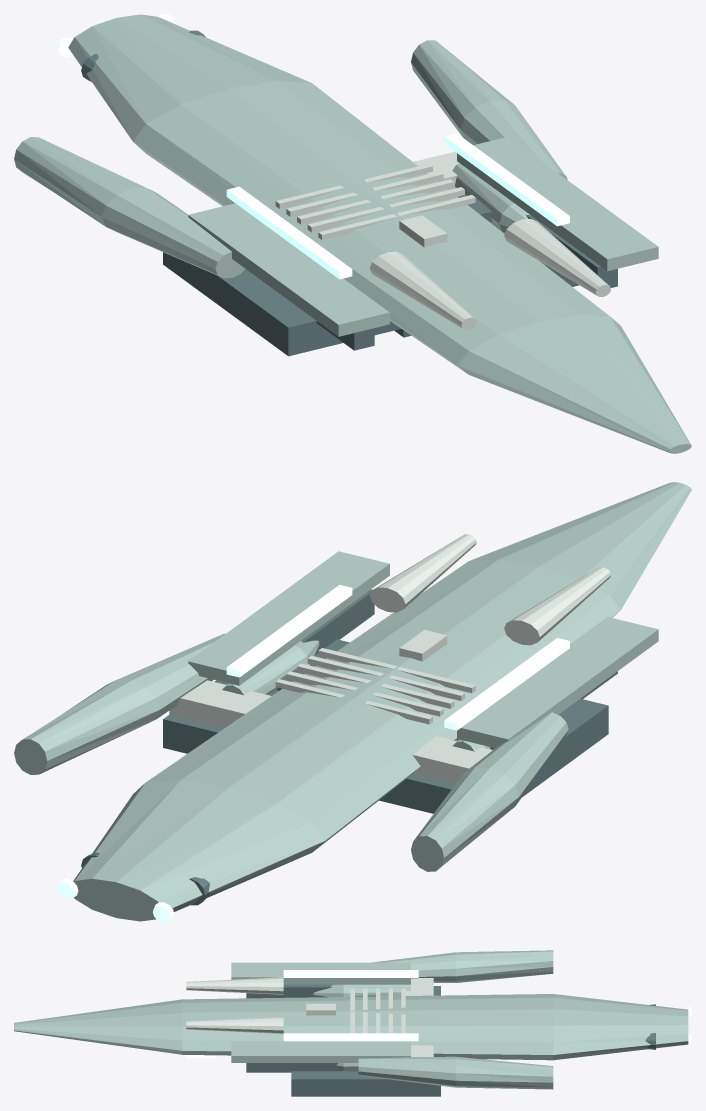
The picture shows the model from 3 angles, top to bottom: view 1: azimuth 30°, elevation 25°; view 2: azimuth 150°, elevation 25°; view 3: azimuth 270°, elevation 25°; orthographic projection. The views are drawn at different scales.
Size of the model in its own units: 7.53 by 1.7 by 17.2.
